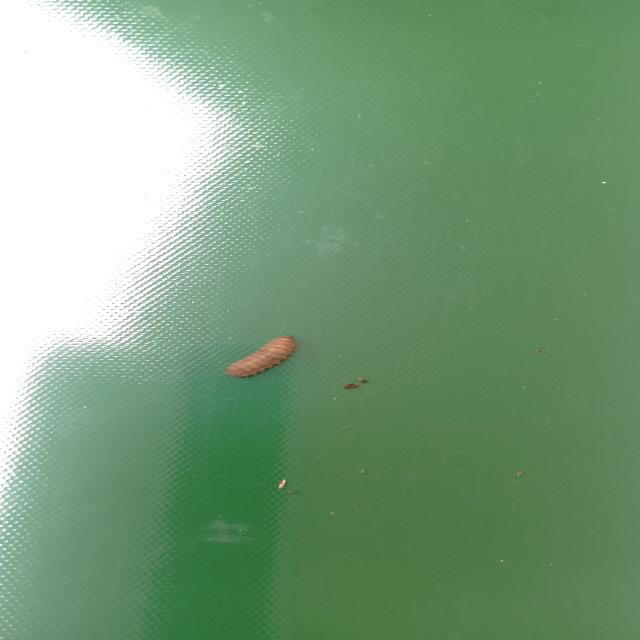Maggot: (226, 336, 297, 380)
